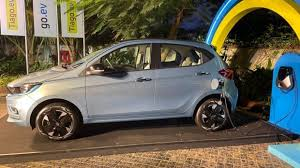Tiago: (12, 32, 241, 150)
